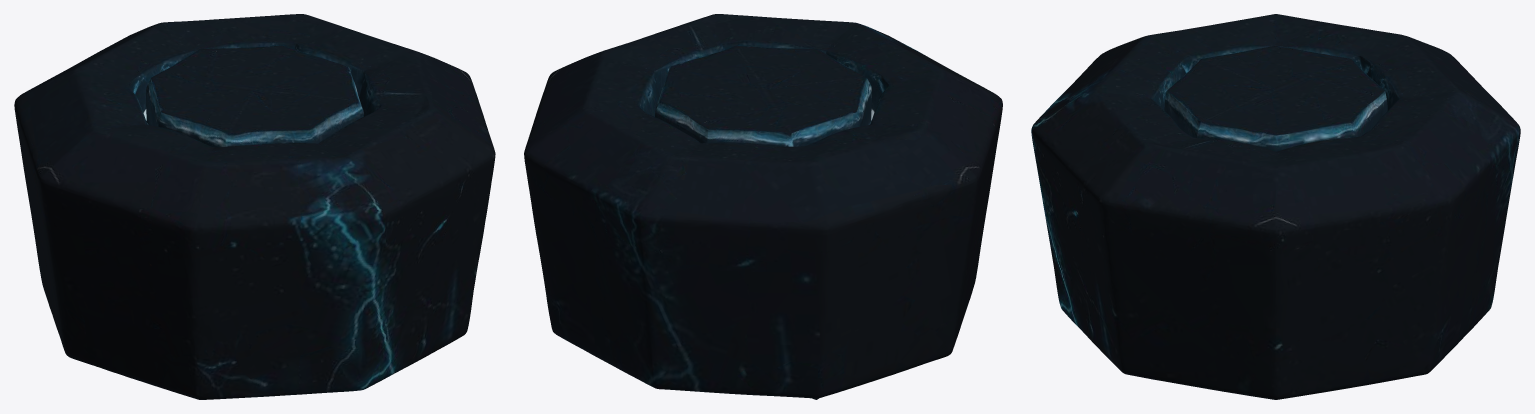
File: prismBrick.1bbce861.glb
The picture shows the model from 3 angles, left to right: view 1: azimuth 30°, elevation 25°; view 2: azimuth 150°, elevation 25°; view 3: azimuth 270°, elevation 25°; orthographic projection.
Size of the model in its own units: 1.9 by 0.9817 by 1.9.
1 material, 1 textured.
